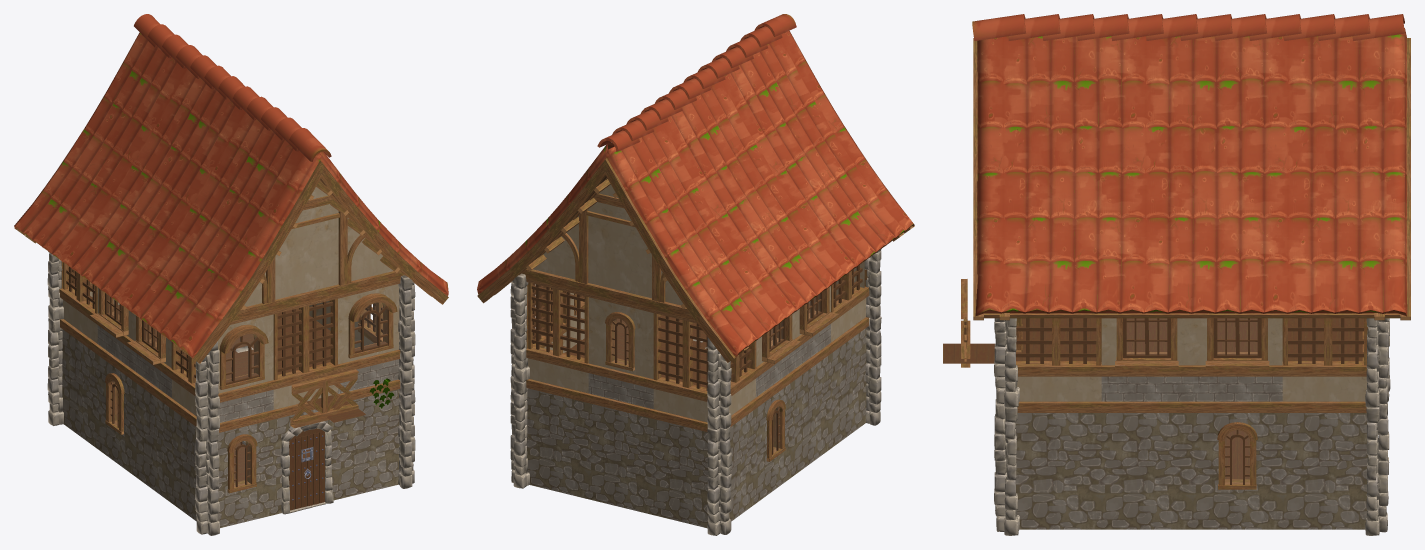
Rendered from house_shop_narrow_2.gltf.
3 views of the same model, side by side, from view 1: azimuth 30°, elevation 25°; view 2: azimuth 150°, elevation 25°; view 3: azimuth 270°, elevation 25° (orthographic). The views are drawn at different scales.
Parts seen in each view (by area): view 1: House; view 2: House; view 3: House.
Boxes of the visible parts, <box> form: House: <box>14,14,448,535</box>; House: <box>477,14,914,535</box>; House: <box>943,14,1410,535</box>.
Size of what is drawn, in the model's own units: 8.25 by 11.14 by 10.33.
10 materials, 9 textured.
